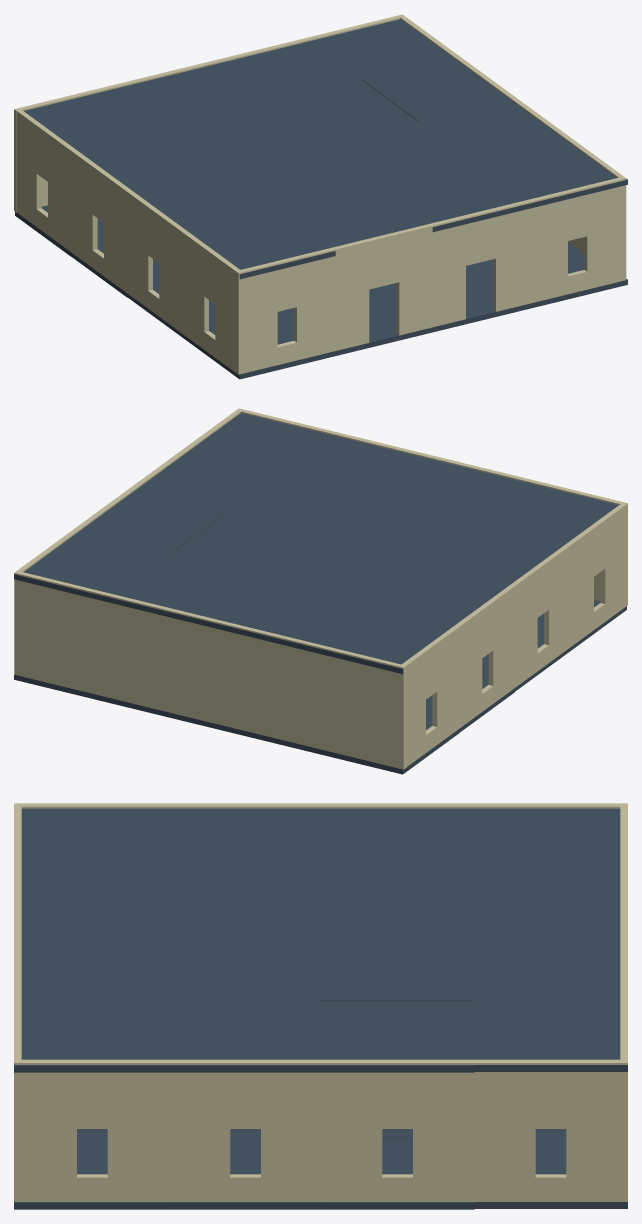
File: Building1.fbx
3 views of the same model, one above another, from view 1: azimuth 30°, elevation 25°; view 2: azimuth 150°, elevation 25°; view 3: azimuth 270°, elevation 25° (orthographic). The views are drawn at different scales.
Parts seen in each view (by area): view 1: Wall_400x401, Wall_400x403, Wall_Door_400x401, Wall_Door_400x402, Wall_Window_400x402, Wall_Window_400x401, Wall_400x402, Wall_Window_400x403, Floor_400x427, Floor_400x421, Floor_400x422, Floor_400x425 (+18 smaller); view 2: Wall_400x404, Wall_400x405, Wall_400x406, Wall_400x407, Wall_400x402, Wall_Window_400x401, Wall_Window_400x402, Wall_Window_400x403, Floor_400x420, Floor_400x424, Floor_400x421, Floor_400x422 (+17 smaller); view 3: Wall_Window_400x406, Wall_Window_400x404, Wall_400x408, Wall_Window_400x405, Floor_400x429, Floor_400x430, Floor_400x425, Floor_400x421, Floor_400x422, Floor_400x426, Floor_400x431, Floor_400x428 (+17 smaller).
Boxes of the visible parts, x1=… form: Wall_400x401: x1=238, y1=247, x2=335, y2=374; Wall_400x403: x1=526, y1=177, x2=626, y2=303; Wall_Door_400x401: x1=333, y1=224, x2=432, y2=350; Wall_Door_400x402: x1=430, y1=200, x2=528, y2=327; Wall_Window_400x402: x1=125, y1=189, x2=186, y2=332; Wall_Window_400x401: x1=182, y1=230, x2=242, y2=373; Wall_400x402: x1=70, y1=149, x2=130, y2=291; Wall_Window_400x403: x1=14, y1=108, x2=74, y2=251; Floor_400x427: x1=378, y1=162, x2=530, y2=231; Floor_400x421: x1=168, y1=104, x2=320, y2=168; Floor_400x422: x1=225, y1=145, x2=377, y2=209; Floor_400x425: x1=265, y1=80, x2=417, y2=144; Wall_400x404: x1=306, y1=642, x2=406, y2=769; Wall_400x405: x1=209, y1=618, x2=308, y2=745; Wall_400x406: x1=111, y1=594, x2=211, y2=721; Wall_400x407: x1=14, y1=572, x2=114, y2=698; Wall_400x402: x1=455, y1=585, x2=515, y2=727; Wall_Window_400x401: x1=567, y1=502, x2=627, y2=646; Wall_Window_400x402: x1=510, y1=543, x2=571, y2=687; Wall_Window_400x403: x1=399, y1=625, x2=459, y2=766; Floor_400x420: x1=208, y1=580, x2=361, y2=650; Floor_400x424: x1=111, y1=557, x2=263, y2=626; Floor_400x421: x1=264, y1=539, x2=417, y2=603; Floor_400x422: x1=320, y1=498, x2=472, y2=562; Wall_Window_400x406: x1=474, y1=1059, x2=627, y2=1201; Wall_Window_400x404: x1=15, y1=1059, x2=168, y2=1201; Wall_400x408: x1=321, y1=1059, x2=474, y2=1201; Wall_Window_400x405: x1=169, y1=1059, x2=322, y2=1201; Floor_400x429: x1=321, y1=1001, x2=474, y2=1072; Floor_400x430: x1=167, y1=1001, x2=320, y2=1072; Floor_400x425: x1=321, y1=935, x2=474, y2=1000; Floor_400x421: x1=321, y1=871, x2=474, y2=935; Floor_400x422: x1=167, y1=871, x2=320, y2=935; Floor_400x426: x1=167, y1=936, x2=320, y2=1000; Floor_400x431: x1=14, y1=1001, x2=167, y2=1072; Floor_400x428: x1=474, y1=1000, x2=627, y2=1071.
Bounding box in the file's own units: 1607 × 1600 × 420.
